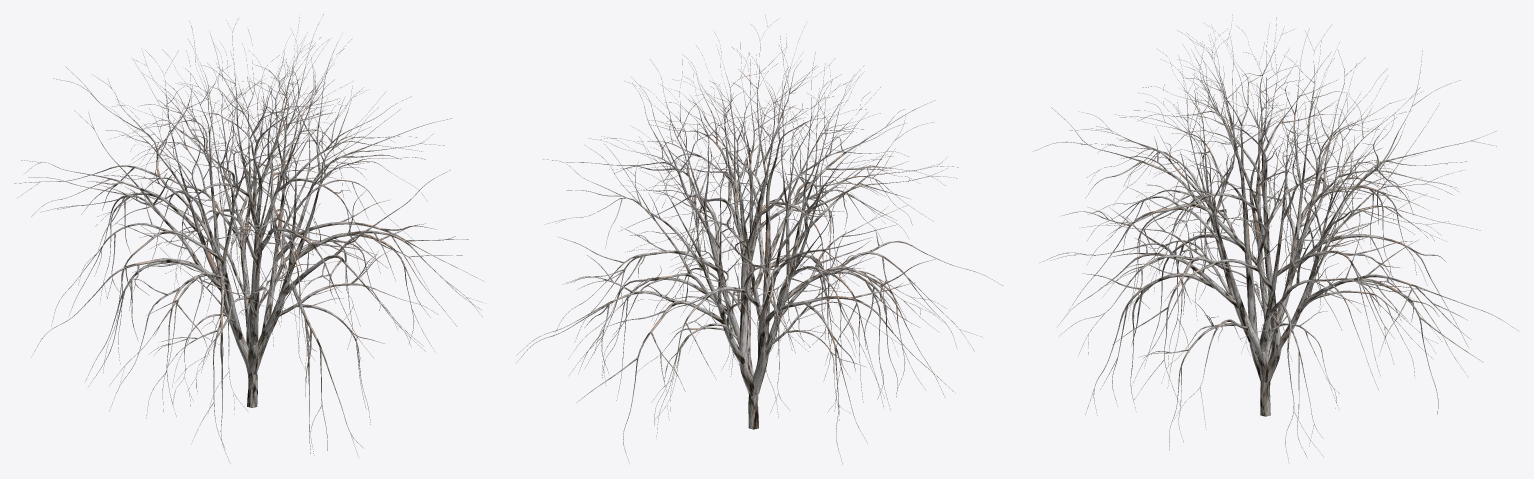
File: Light Wood Tree 2.fbx
3 views of the same model, side by side, from view 1: azimuth 30°, elevation 25°; view 2: azimuth 150°, elevation 25°; view 3: azimuth 270°, elevation 25° (orthographic).
Visible parts, largest first — view 1: Light Wood Tree 2; view 2: Light Wood Tree 2; view 3: Light Wood Tree 2.
Boxes of the visible parts, x1,y1,x2,y2 form: Light Wood Tree 2: (14,14,484,463); Light Wood Tree 2: (516,15,1002,464); Light Wood Tree 2: (1033,14,1517,463).
Size of the model in its own units: 784 by 722 by 817.
1 material, 1 textured.
